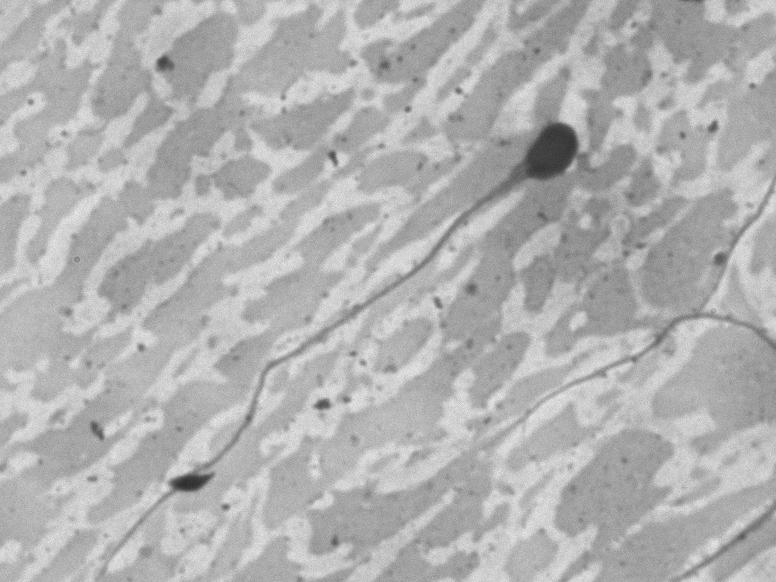Abnormal: (98, 99, 597, 564)
